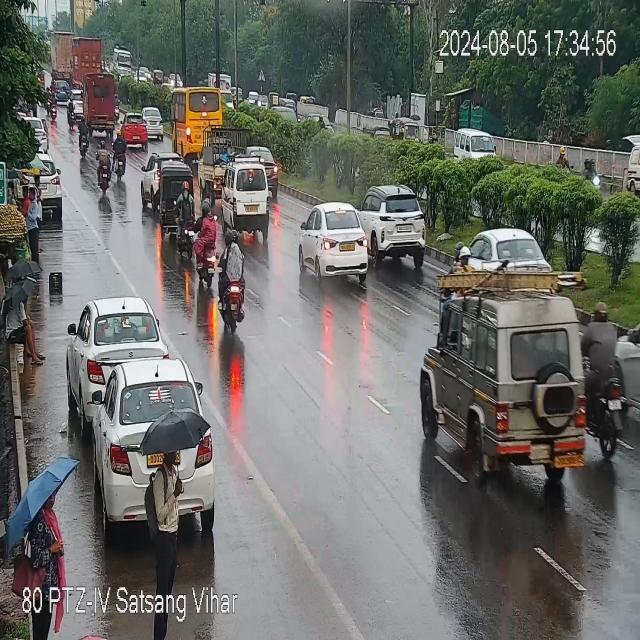2-wheelers: (582, 304, 631, 454), (216, 233, 247, 338), (93, 123, 131, 188), (195, 201, 217, 289), (176, 174, 195, 262), (113, 125, 131, 186), (582, 156, 603, 194), (78, 116, 90, 159), (68, 96, 76, 130), (51, 86, 57, 124)
auto: (157, 157, 195, 237)
bus: (170, 89, 226, 158), (112, 45, 132, 78)
car: (420, 293, 583, 481), (93, 360, 217, 535), (65, 298, 163, 427), (298, 199, 375, 286), (360, 182, 426, 267), (459, 226, 548, 282), (220, 161, 275, 242), (11, 148, 64, 220), (122, 111, 148, 150), (142, 105, 165, 145)
pedestrian: (143, 416, 209, 579), (5, 456, 80, 576), (4, 273, 44, 371), (24, 182, 41, 268)
truck: (82, 72, 118, 132), (69, 32, 106, 88), (50, 27, 75, 78)
